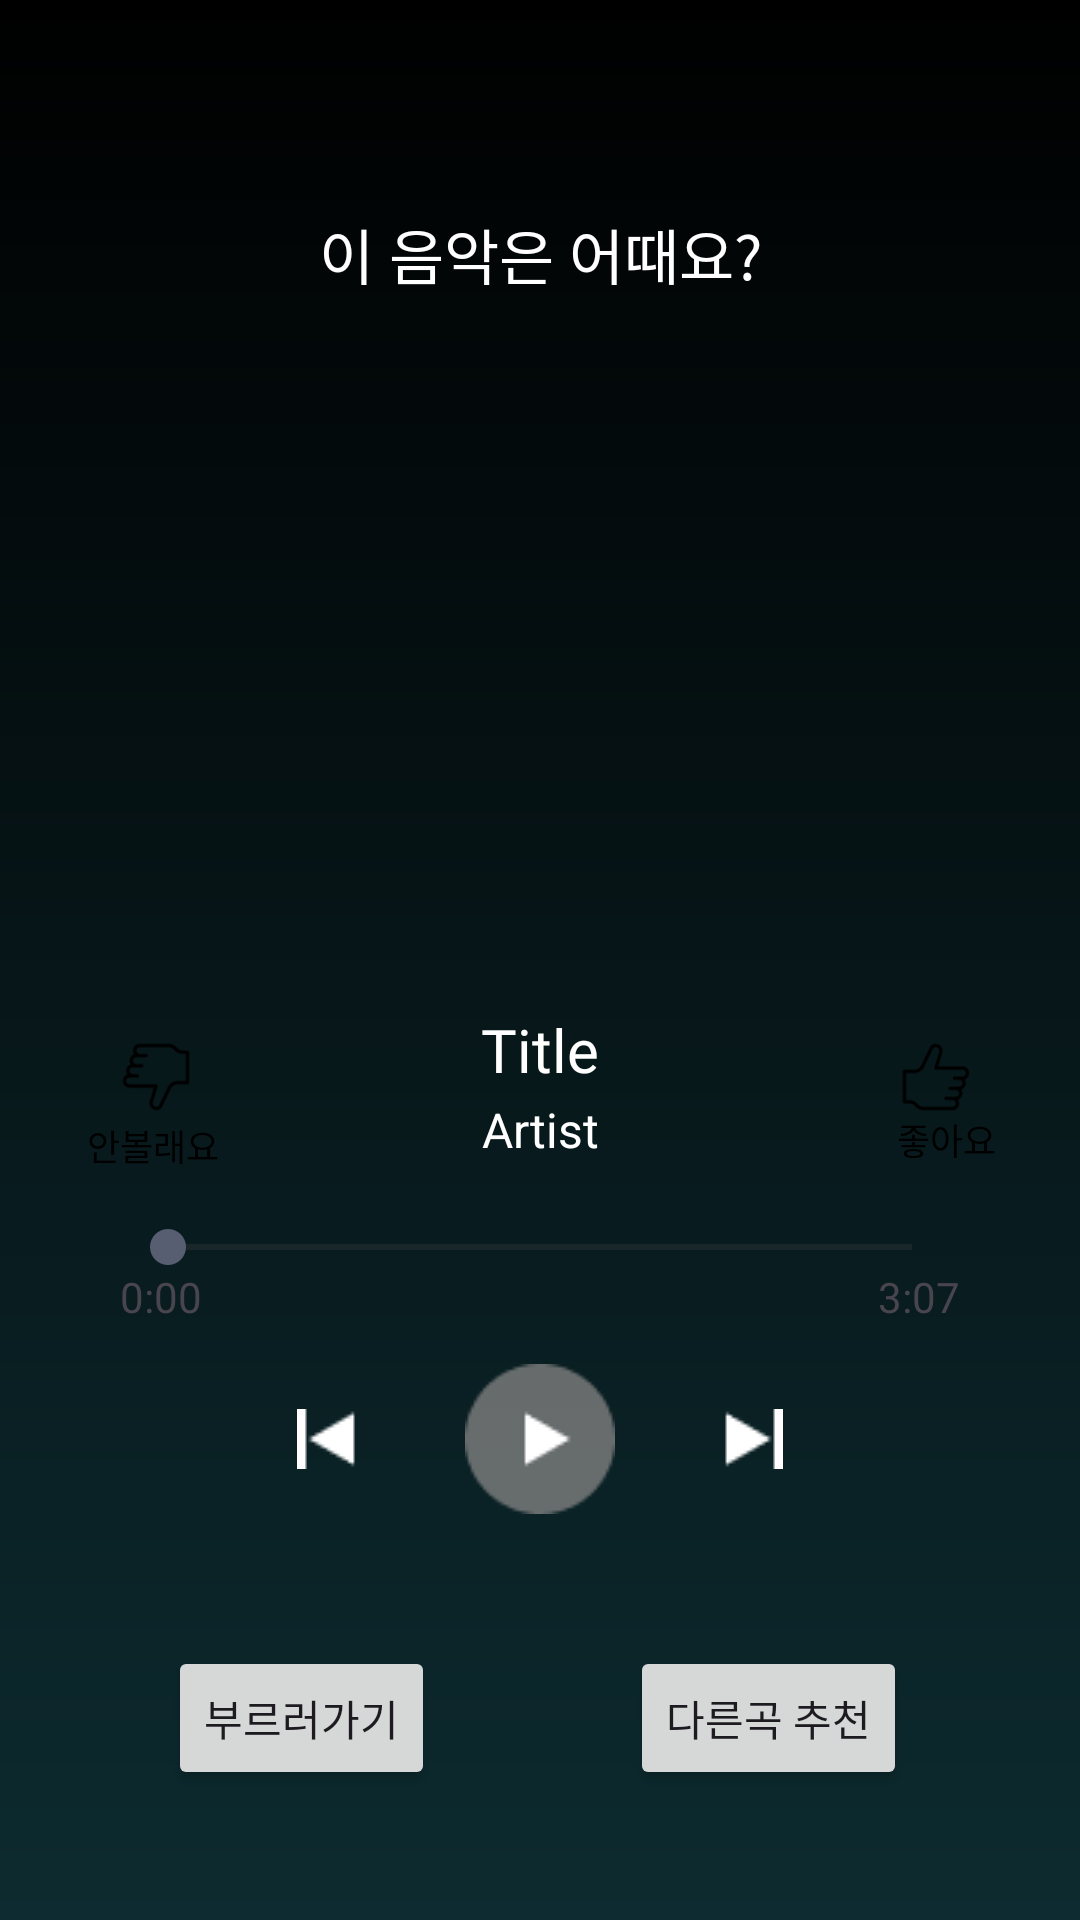

Icons on this 1080px x 1920px Android screen, each with the point to tap as (x,y):
after: (754,1439)
before: (326,1439)
play: (540,1439)
thumb down: (156,1077)
